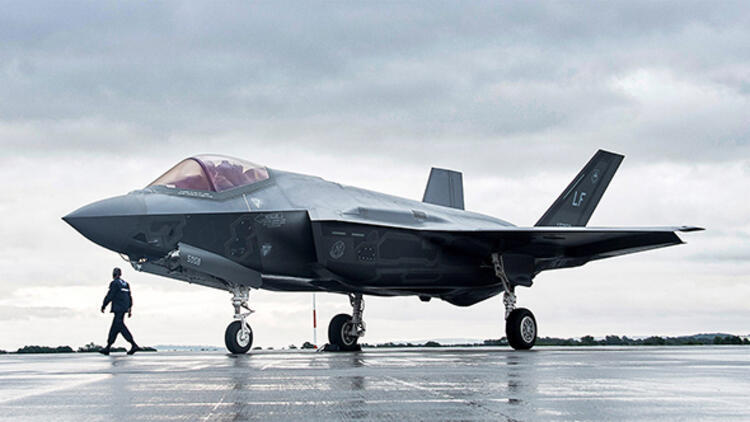F-35 Lightning: (33, 97, 723, 359)
